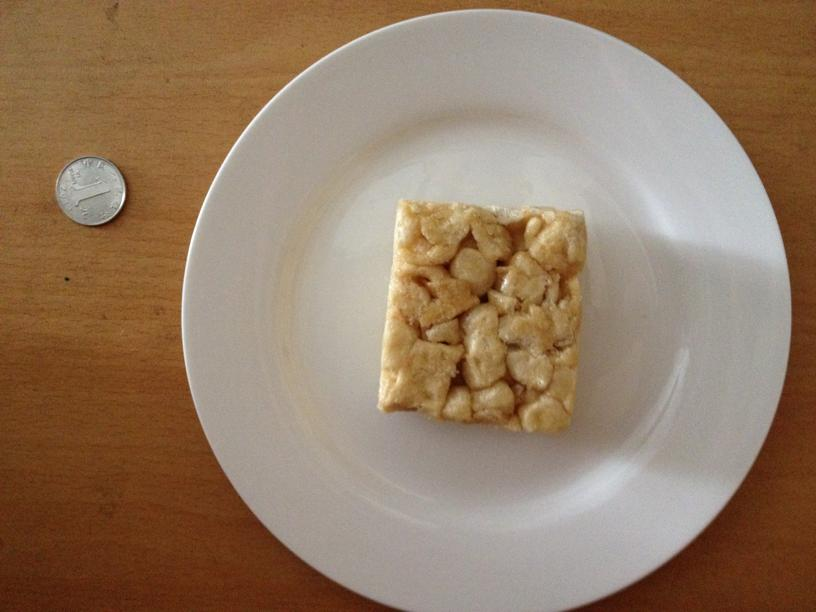coin: (55, 152, 126, 224)
sachima: (380, 196, 586, 431)
